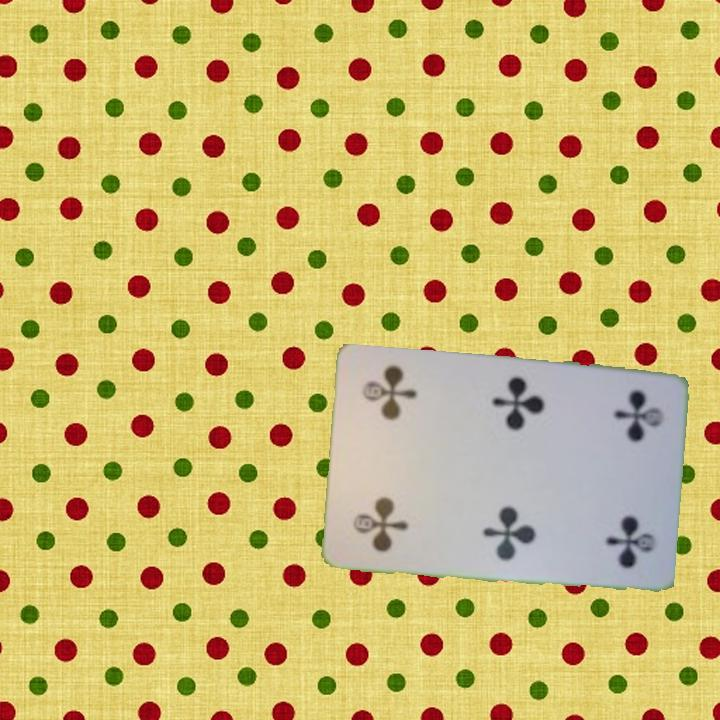c_6.png: (580, 378, 673, 484), (337, 454, 430, 560)
